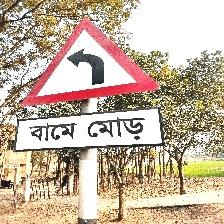Left-Turn: (15, 15, 162, 153)
